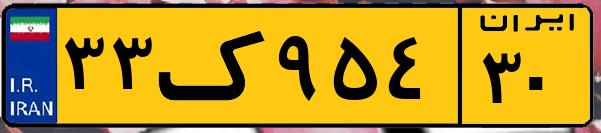0: (525, 38, 570, 115)
3: (57, 26, 110, 100), (475, 38, 525, 113), (110, 28, 158, 98)
4: (385, 28, 445, 110)
5: (330, 28, 385, 110)
9: (270, 28, 330, 110)
ک: (158, 12, 270, 120)
